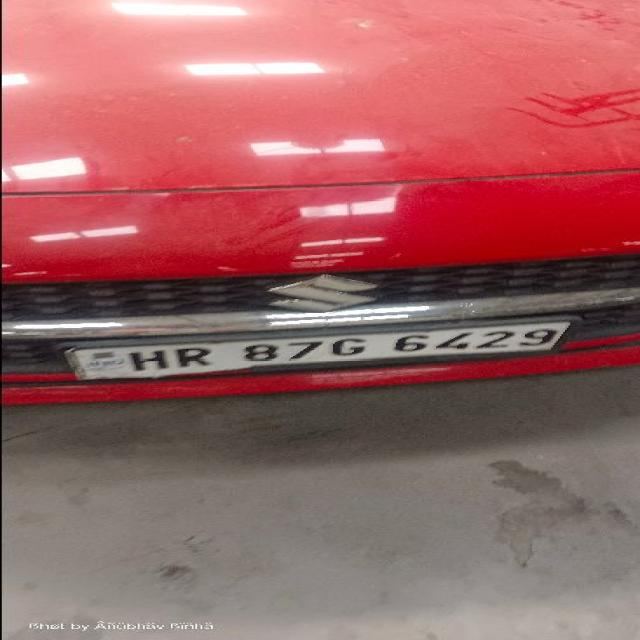license_plate: (59, 316, 576, 382)
